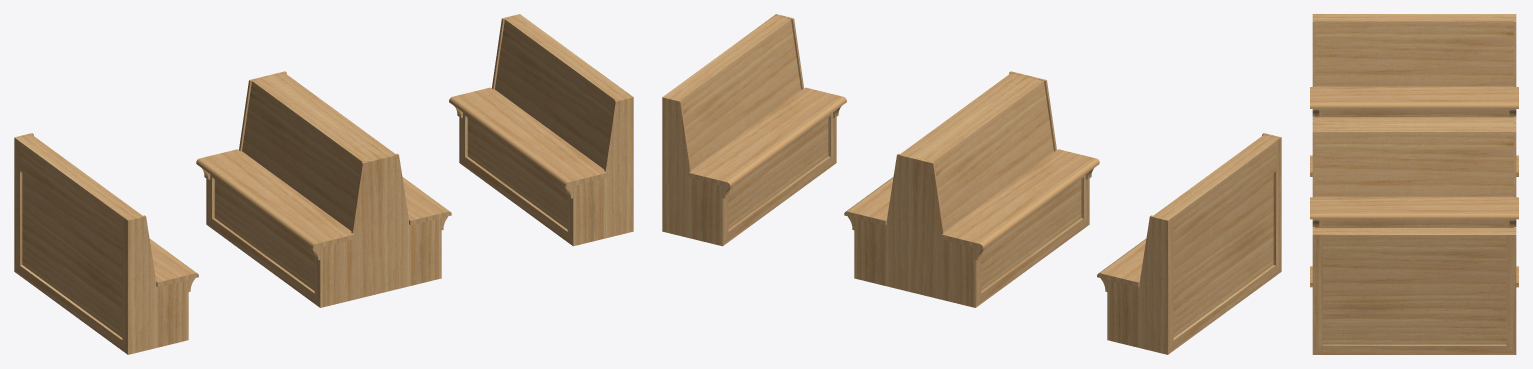
File: RestaurantBooth7.gltf
The picture shows the model from 3 angles, left to right: view 1: azimuth 30°, elevation 25°; view 2: azimuth 150°, elevation 25°; view 3: azimuth 270°, elevation 25°; orthographic projection. The views are drawn at different scales.
Parts seen in each view (by area): view 1: Component#1 (×2), Component#4; view 2: Component#1 (×2), Component#4; view 3: Component#1 (×2), Component#4.
Part boxes in pixels (x1=…): Component#1 (×2): x1=14, y1=14, x2=633, y2=354; Component#4: x1=196, y1=71, x2=451, y2=307; Component#1 (×2): x1=662, y1=14, x2=1281, y2=354; Component#4: x1=844, y1=71, x2=1099, y2=307; Component#1 (×2): x1=1310, y1=14, x2=1518, y2=354; Component#4: x1=1310, y1=116, x2=1518, y2=227.
Bounding box in the file's own units: 3.91 × 0.9914 × 1.56.
1 material, 1 textured.
